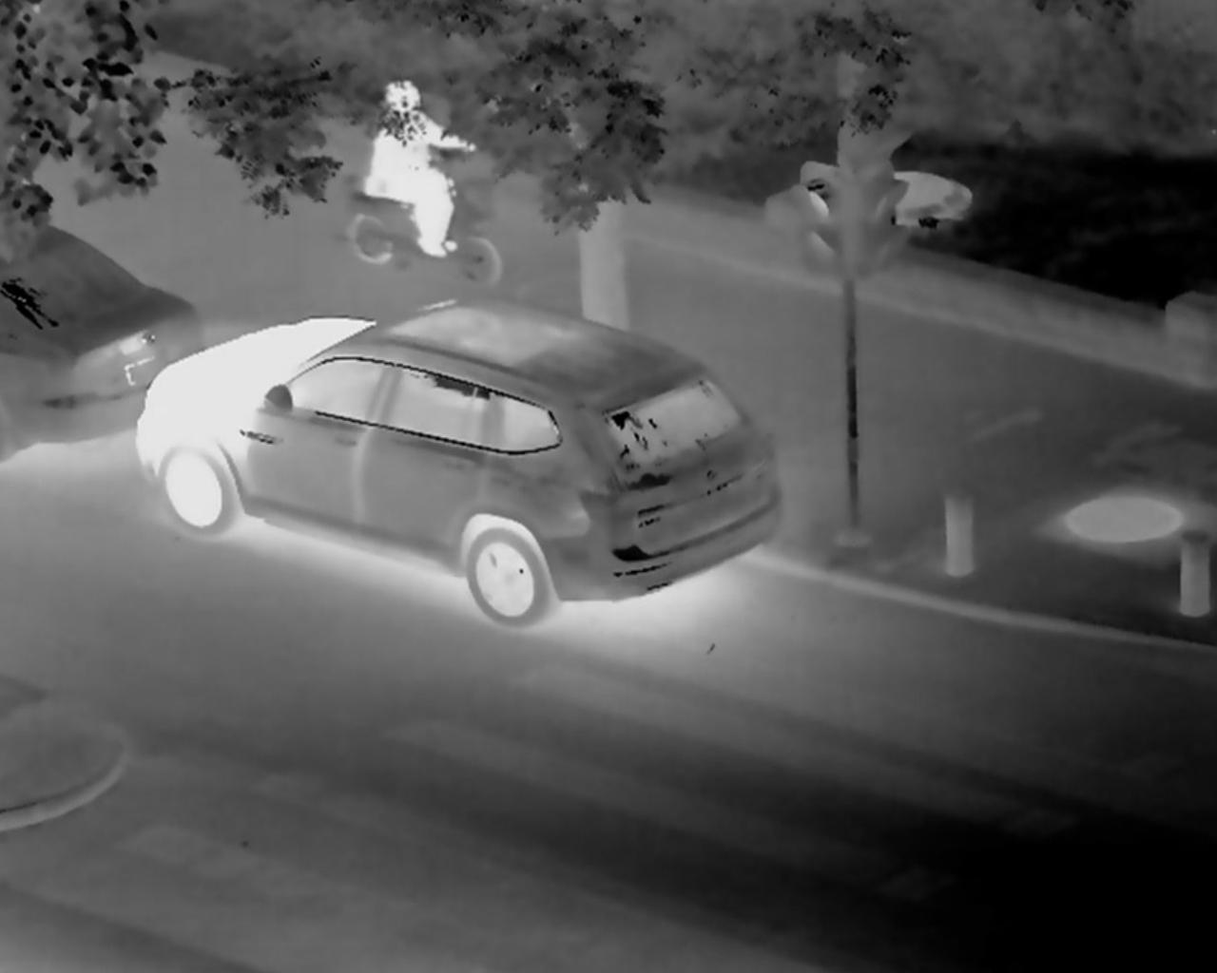person: (312, 63, 515, 254)
